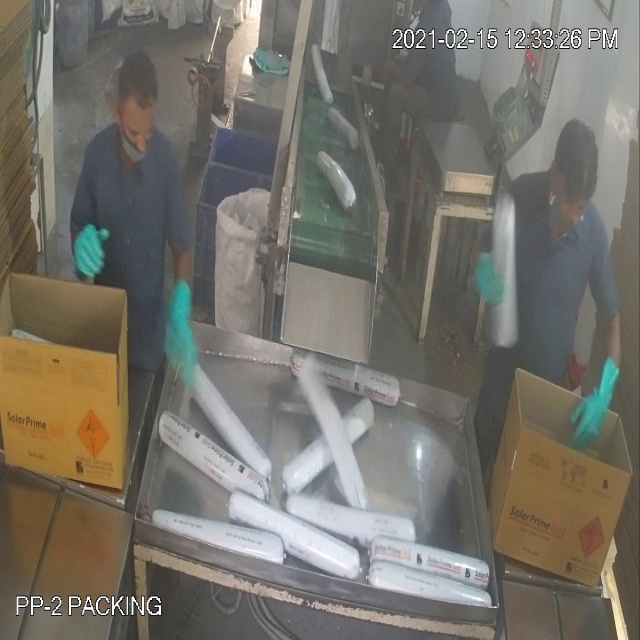Guantes: (149, 257, 204, 398), (570, 330, 625, 460), (62, 213, 121, 300)
Sin_guantes: (379, 52, 422, 97)
